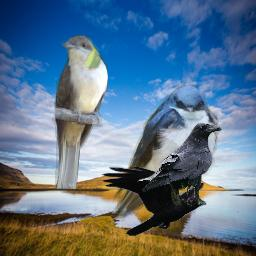Crow: (101, 165, 208, 236), (137, 123, 222, 205)
Cuckoo: (52, 35, 108, 189)
Swallow: (110, 84, 219, 219)
